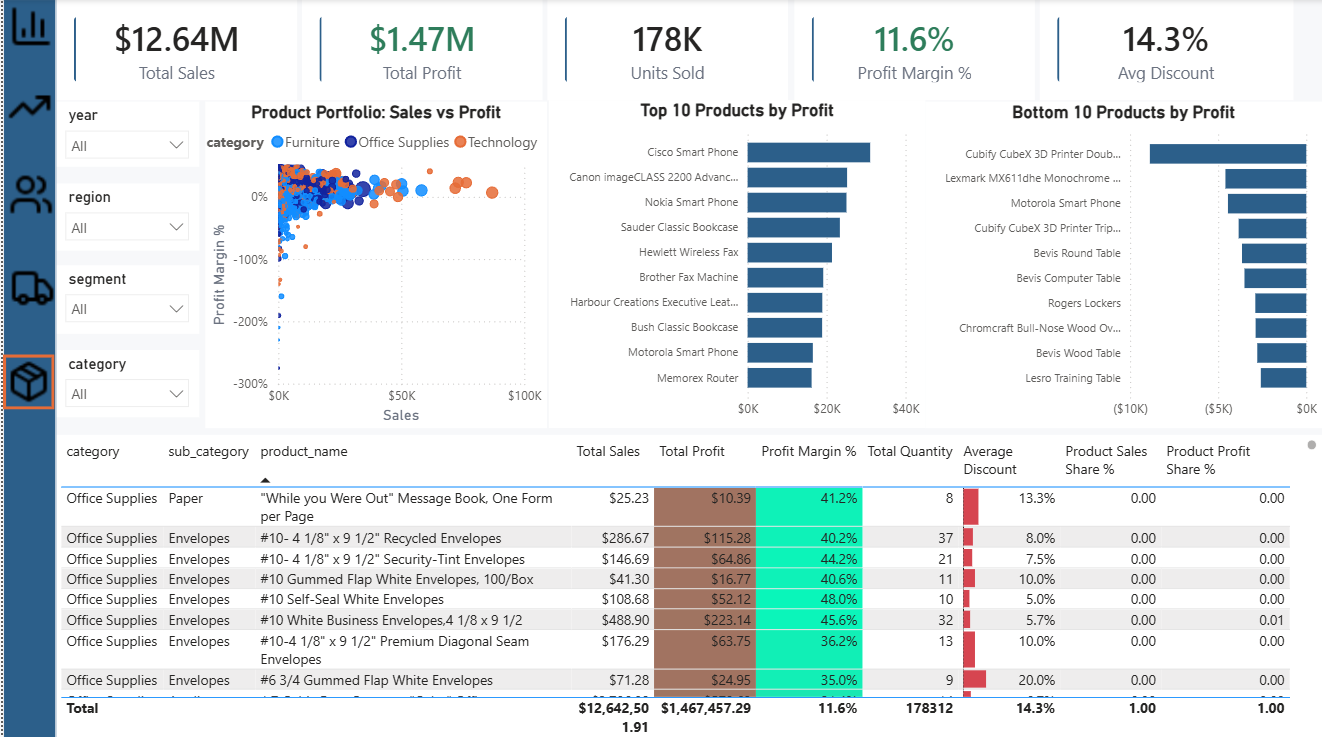

Layout of this report page (visuals, bound fields, positions):
{"tool":"powerbi","page":{"name":"Product Performance & Portfolio Analysis","canvas":[1280,720],"ordinal":4},"visuals":[{"type":"shape","box":[0,0,51.7,720],"z":0,"group":"g1"},{"type":"cardVisual","fields":{"Data":["_Measures.Total Sales"]},"box":[51.3,0,233.2,98.4],"z":0},{"type":"actionButton","box":[1.7,0,51.7,53.3],"z":1000,"group":"g1"},{"type":"cardVisual","fields":{"Data":["_Measures.Total Profit"]},"box":[289.8,0,233.2,98.4],"z":1000},{"type":"cardVisual","fields":{"Data":["_Measures.Total Quantity"]},"box":[528.4,0,233.2,98.4],"z":2000},{"type":"actionButton","box":[0,78.3,51.7,53.3],"z":2000,"group":"g1"},{"type":"cardVisual","fields":{"Data":["_Measures.Profit Margin %"]},"box":[766.9,0,233.2,98.4],"z":3000},{"type":"actionButton","box":[1.7,163.3,51.7,53.3],"z":3000,"group":"g1"},{"type":"cardVisual","fields":{"Data":["_Measures.Average Discount"]},"box":[1005.4,0,246,98.4],"z":4000},{"type":"actionButton","box":[3.3,253.3,51.7,53.3],"z":4000,"group":"g1"},{"type":"slicer","fields":{"Values":["dim.date.year"]},"box":[50,100,140,63.3],"z":5000},{"type":"actionButton","box":[0,345,50,53.3],"z":5000,"group":"g1"},{"type":"slicer","fields":{"Values":["dim.geography.region"]},"box":[50,178.3,140,65],"z":6000},{"type":"slicer","fields":{"Values":["dim.customer.segment"]},"box":[50,258.3,140,66.7],"z":7000},{"type":"slicer","fields":{"Values":["dim.product.category"]},"box":[50,340,140,65],"z":8000},{"type":"scatterChart","title":"Product Portfolio: Sales vs Profit","fields":{"X":["_Measures.Total Sales"],"Y":["_Measures.Profit Margin %"],"Size":["_Measures.Total Quantity"],"Series":["dim.product.category"],"Category":["dim.product.product_name"]},"box":[196.7,100,331.7,316.7],"z":9000},{"type":"clusteredBarChart","title":"Top 10 Products by Profit","fields":{"Category":["dim.product.product_short_name"],"Y":["_Measures.Total Profit"]},"box":[528.8,98.5,365.2,318.2],"z":10000},{"type":"clusteredBarChart","title":"Bottom 10 Products by Profit","fields":{"Category":["dim.product.product_short_name"],"Y":["_Measures.Total Profit"]},"box":[893.9,100,384.8,316.7],"z":11000},{"type":"tableEx","fields":{"Values":["dim.product.category","dim.product.sub_category","dim.product.product_name","_Measures.Total Sales","_Measures.Total Profit","_Measures.Profit Margin %","_Measures.Total Quantity","_Measures.Average Discount","_Measures.Product Sales Share %","_Measures.Product Profit Share %"]},"box":[50.6,422.3,1228.3,297.4],"z":12000},{"type":"group","id":"g1","title":"Group 1","box":[0,0,55,720],"z":12001}]}

Visuals, with their boxes on the page's 1280x720 design canvas (x1, y1, x2, y2). These are canvas units, not pixel positions in the 1322x737 screenshot, which may show the page scaled, cropped or inside an application window:
shape: 0, 0, 52, 720
cardVisual - _Measures.Total Sales: 51, 0, 284, 98
actionButton: 2, 0, 53, 53
cardVisual - _Measures.Total Profit: 290, 0, 523, 98
cardVisual - _Measures.Total Quantity: 528, 0, 762, 98
actionButton: 0, 78, 52, 132
cardVisual - _Measures.Profit Margin %: 767, 0, 1000, 98
actionButton: 2, 163, 53, 217
cardVisual - _Measures.Average Discount: 1005, 0, 1251, 98
actionButton: 3, 253, 55, 307
slicer - dim.date.year: 50, 100, 190, 163
actionButton: 0, 345, 50, 398
slicer - dim.geography.region: 50, 178, 190, 243
slicer - dim.customer.segment: 50, 258, 190, 325
slicer - dim.product.category: 50, 340, 190, 405
"Product Portfolio: Sales vs Profit" scatterChart: 197, 100, 528, 417
"Top 10 Products by Profit" clusteredBarChart: 529, 98, 894, 417
"Bottom 10 Products by Profit" clusteredBarChart: 894, 100, 1279, 417
tableEx - dim.product.category x dim.product.sub_category: 51, 422, 1279, 720
"Group 1" group: 0, 0, 55, 720
